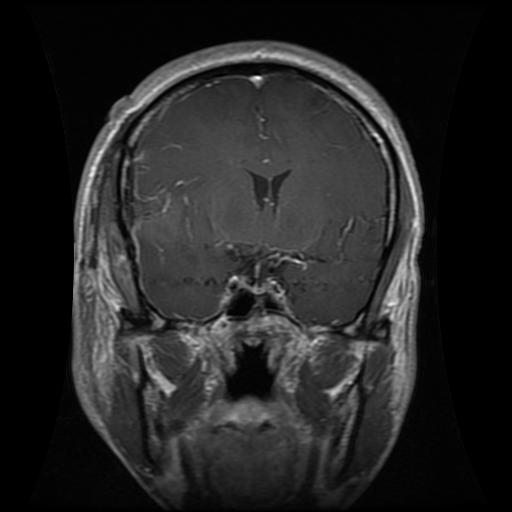Gliomia_tumour: (122, 139, 199, 248)
